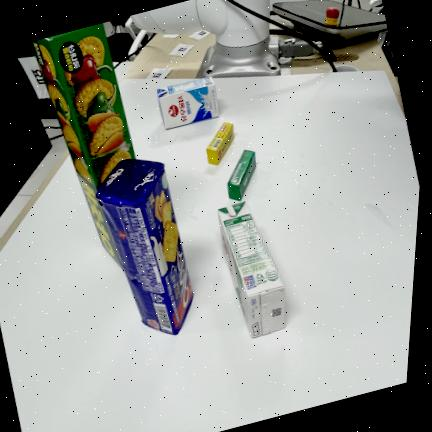cracker_ace: (96, 158, 192, 334)
cracker_vege: (32, 23, 135, 264)
gum_green: (227, 149, 256, 200)
gum_yellow: (206, 122, 233, 164)
milk_blue: (156, 76, 218, 128)
milk_green: (218, 201, 285, 337)
